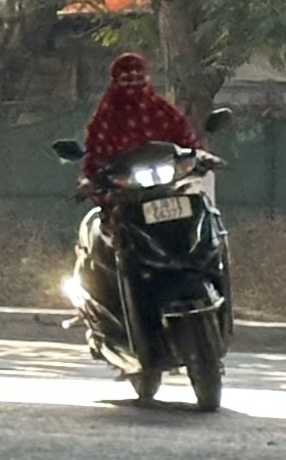BikeWithRider: (46, 46, 247, 416)
NoHelmet: (103, 48, 157, 103)
